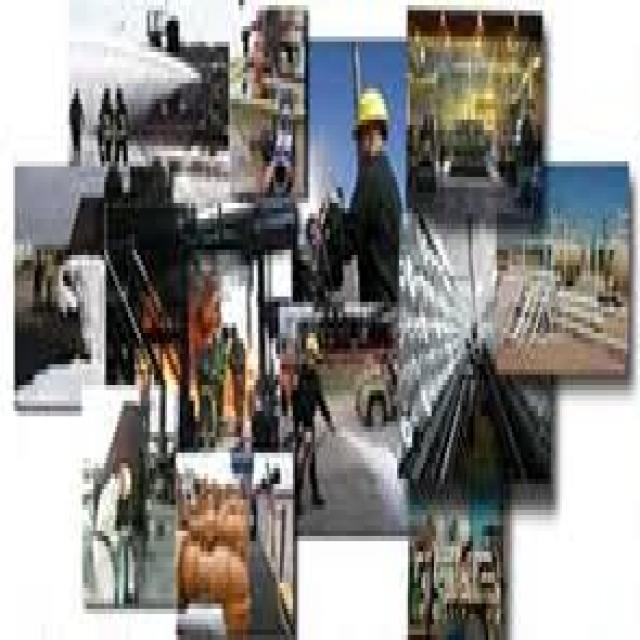Safety-Helmet: (347, 78, 393, 146)
